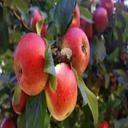apple: (60, 28, 91, 75)
